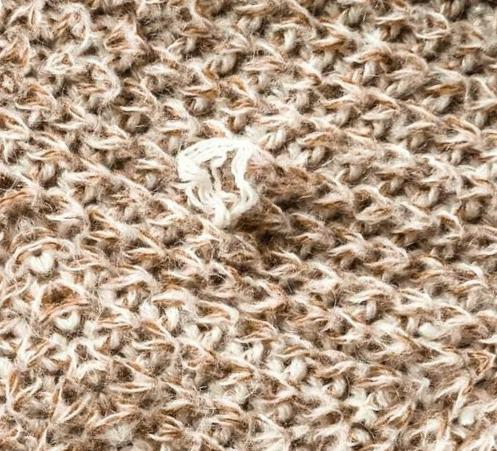snag: (163, 128, 280, 236)
